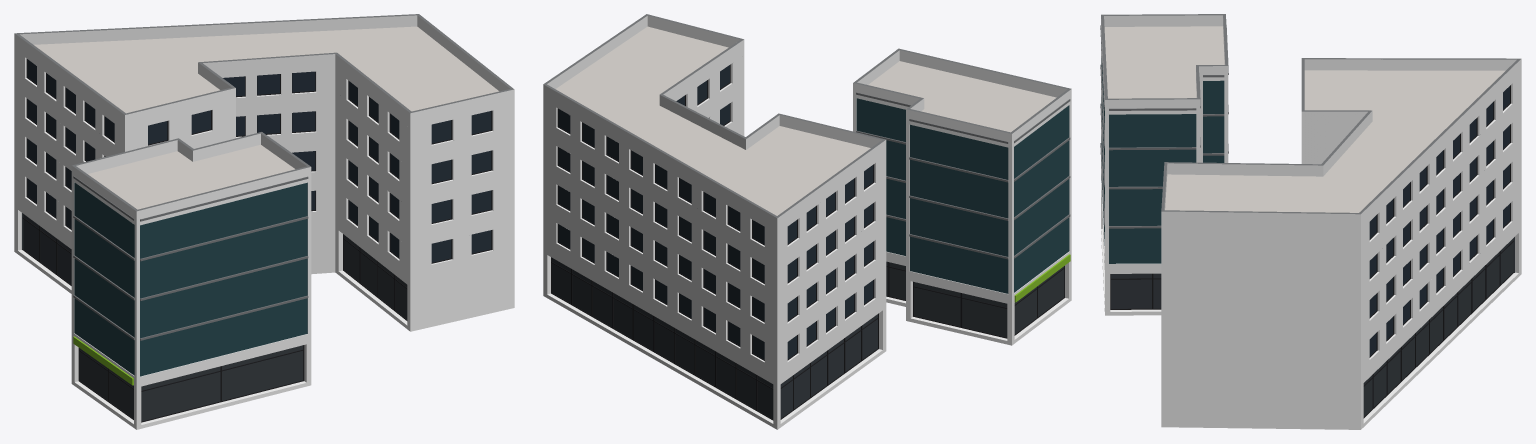
Rendered from ibi.glb.
The picture shows the model from 3 angles, left to right: view 1: azimuth 30°, elevation 25°; view 2: azimuth 150°, elevation 25°; view 3: azimuth 270°, elevation 25°; orthographic projection. The views are drawn at different scales.
Parts seen in each view (by area): view 1: ibi; view 2: ibi; view 3: ibi.
Part boxes in pixels (<box>): ibi: <box>14,14,514,429</box>; ibi: <box>543,14,1071,429</box>; ibi: <box>1100,14,1521,429</box>.
Bounding box in the file's own units: 35.14 × 17.6 × 31.14.
